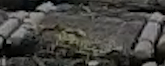bag: (10, 2, 158, 58)
